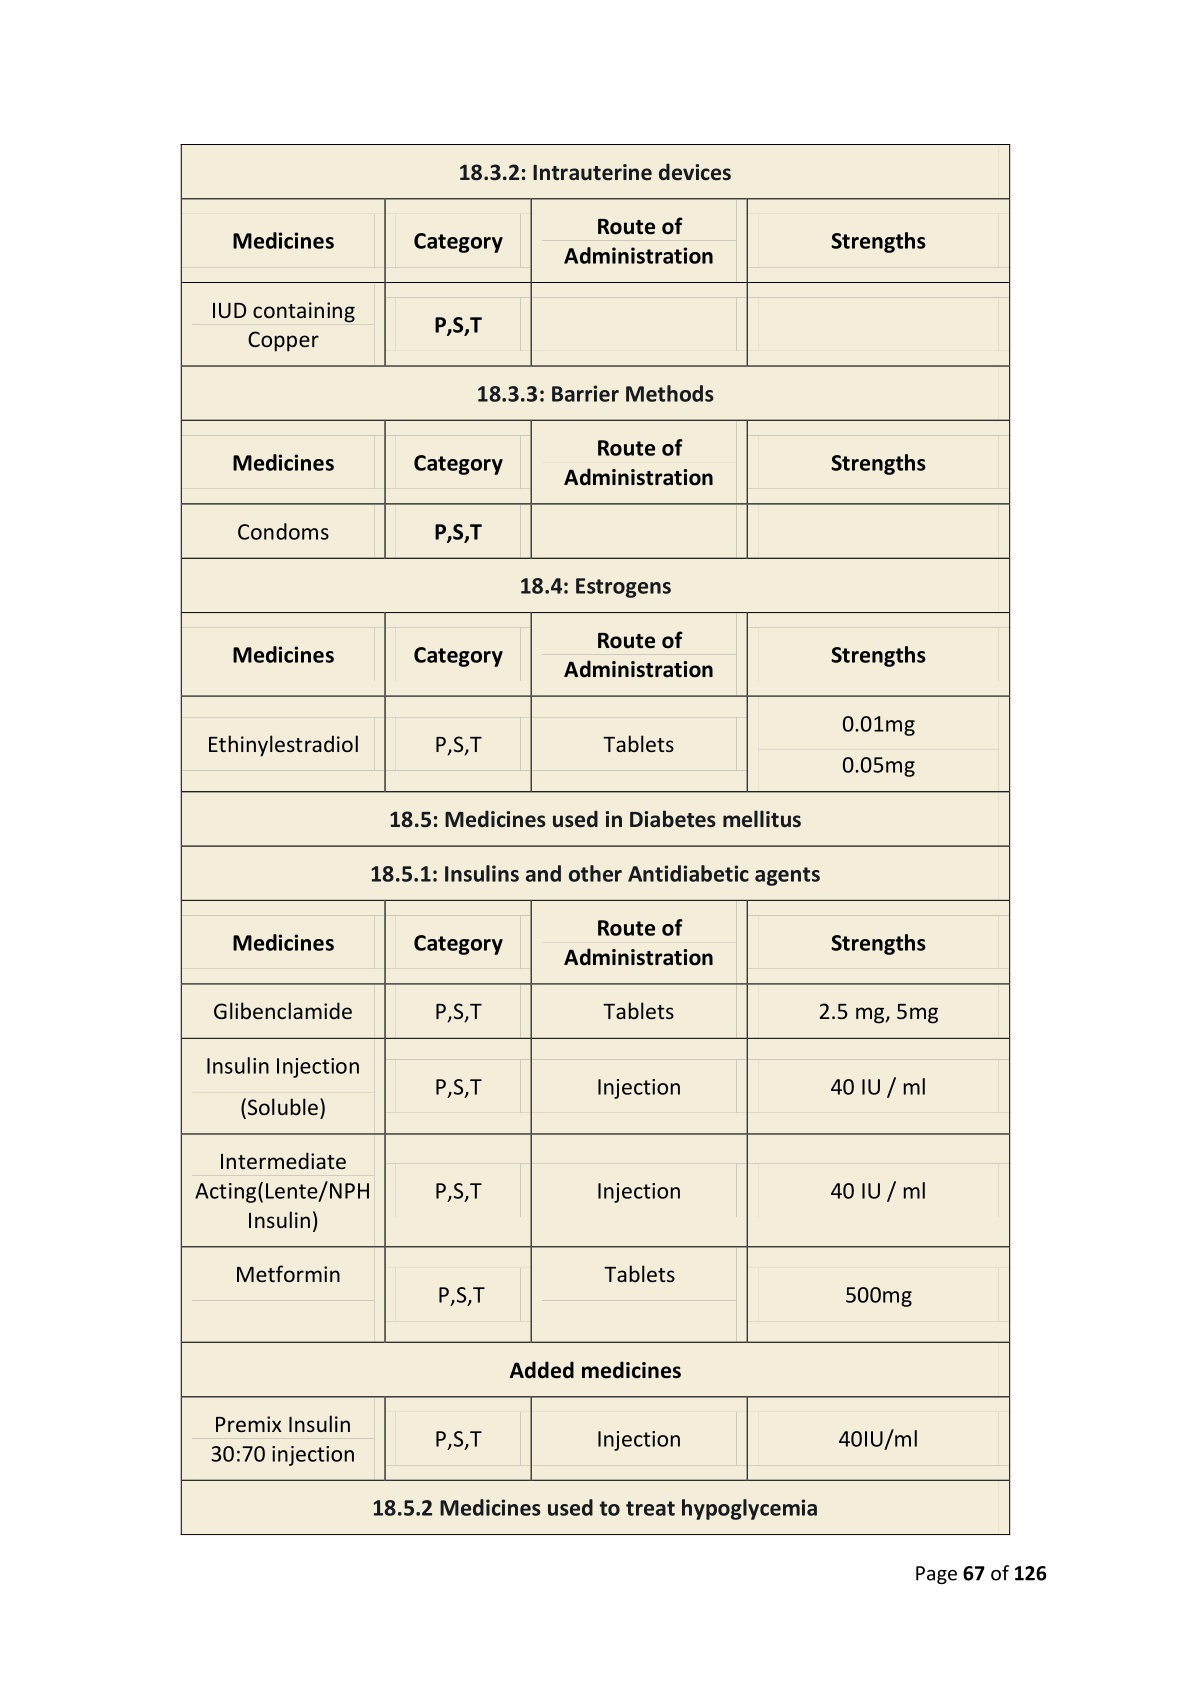merged_cells: (180, 143, 1011, 1536)
